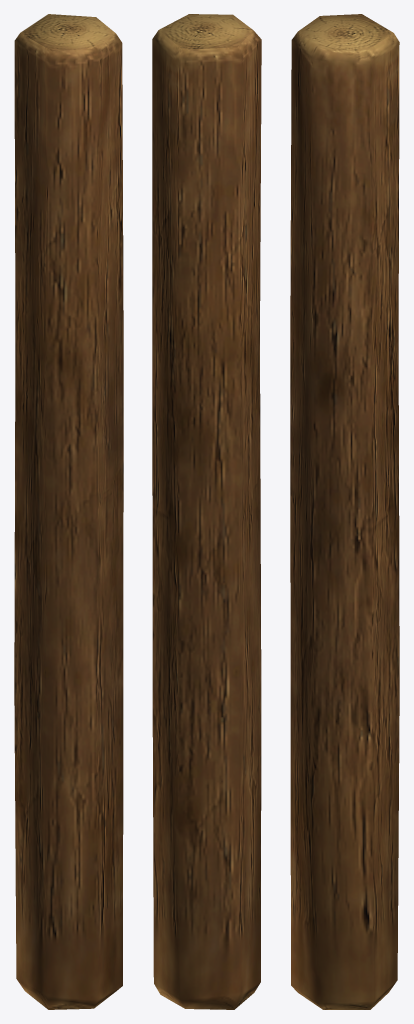
The model's file is log_01.FBX.
3 views of the same model, side by side, from view 1: azimuth 90°, elevation 25°; view 2: azimuth 150°, elevation 25°; view 3: azimuth 270°, elevation 25° (orthographic).
Parts seen in each view (by area): view 1: log_01; view 2: log_01; view 3: log_01.
Part boxes in pixels (x1=…): log_01: x1=14, y1=14, x2=123, y2=1009; log_01: x1=152, y1=14, x2=261, y2=1009; log_01: x1=290, y1=14, x2=399, y2=1009.
Size of the model in its own units: 5.46 by 58.82 by 6.05.
